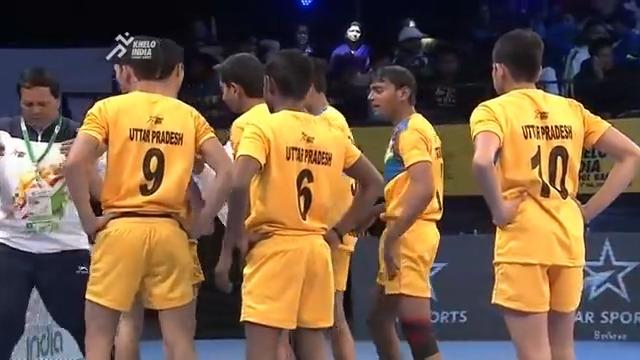Player: (468, 27, 639, 358), (61, 33, 234, 358), (215, 48, 385, 359), (0, 66, 105, 358), (365, 63, 445, 359)
